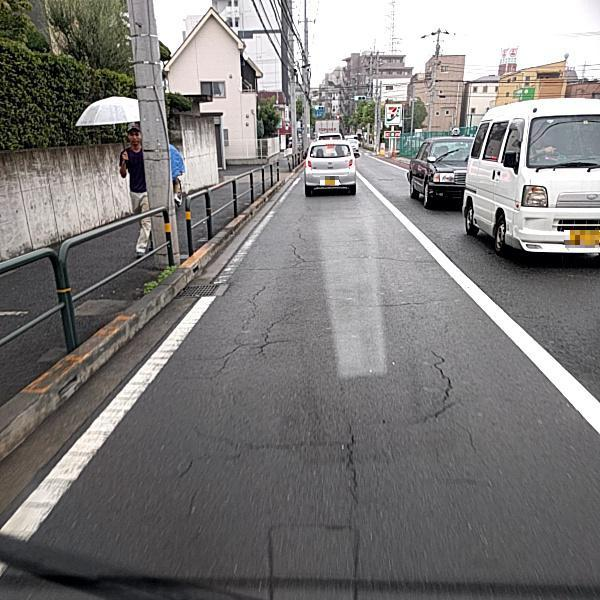D20: (188, 347, 468, 519), (205, 283, 298, 384), (264, 222, 435, 271)
